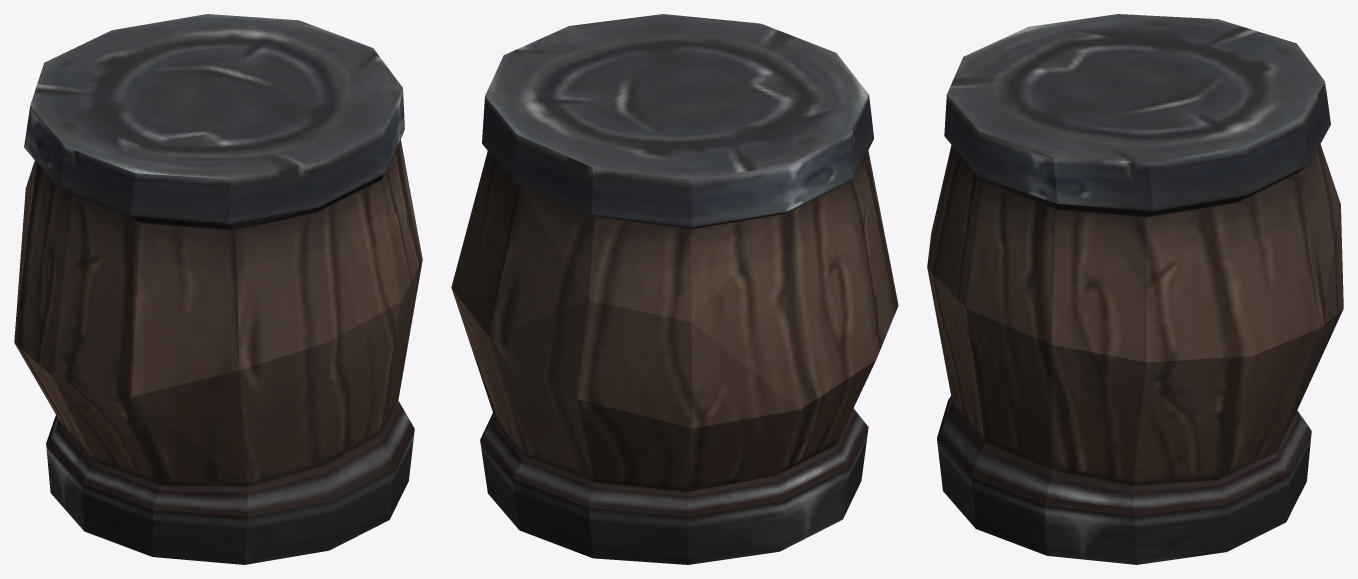
The model's file is js_suilie_mutong_001.FBX.
The picture shows the model from 3 angles, left to right: view 1: azimuth 30°, elevation 25°; view 2: azimuth 150°, elevation 25°; view 3: azimuth 270°, elevation 25°; orthographic projection. The views are drawn at different scales.
Visible parts, largest first — view 1: Object60; view 2: Object60; view 3: Object60.
Boxes of the visible parts, x1,y1,x2,y2 form: Object60: [14, 14, 422, 564]; Object60: [451, 14, 898, 564]; Object60: [927, 14, 1343, 564].
Size of the model in its own units: 75.62 by 76.6 by 72.32.
